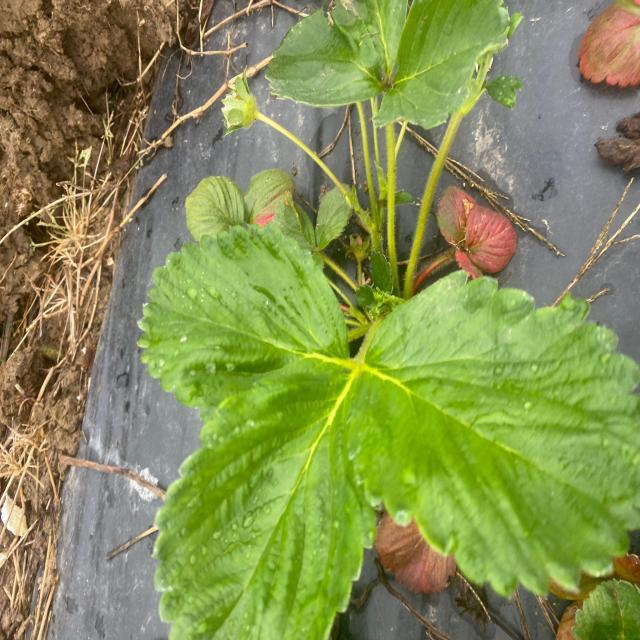flower: (138, 229, 638, 640), (263, 0, 514, 127)
